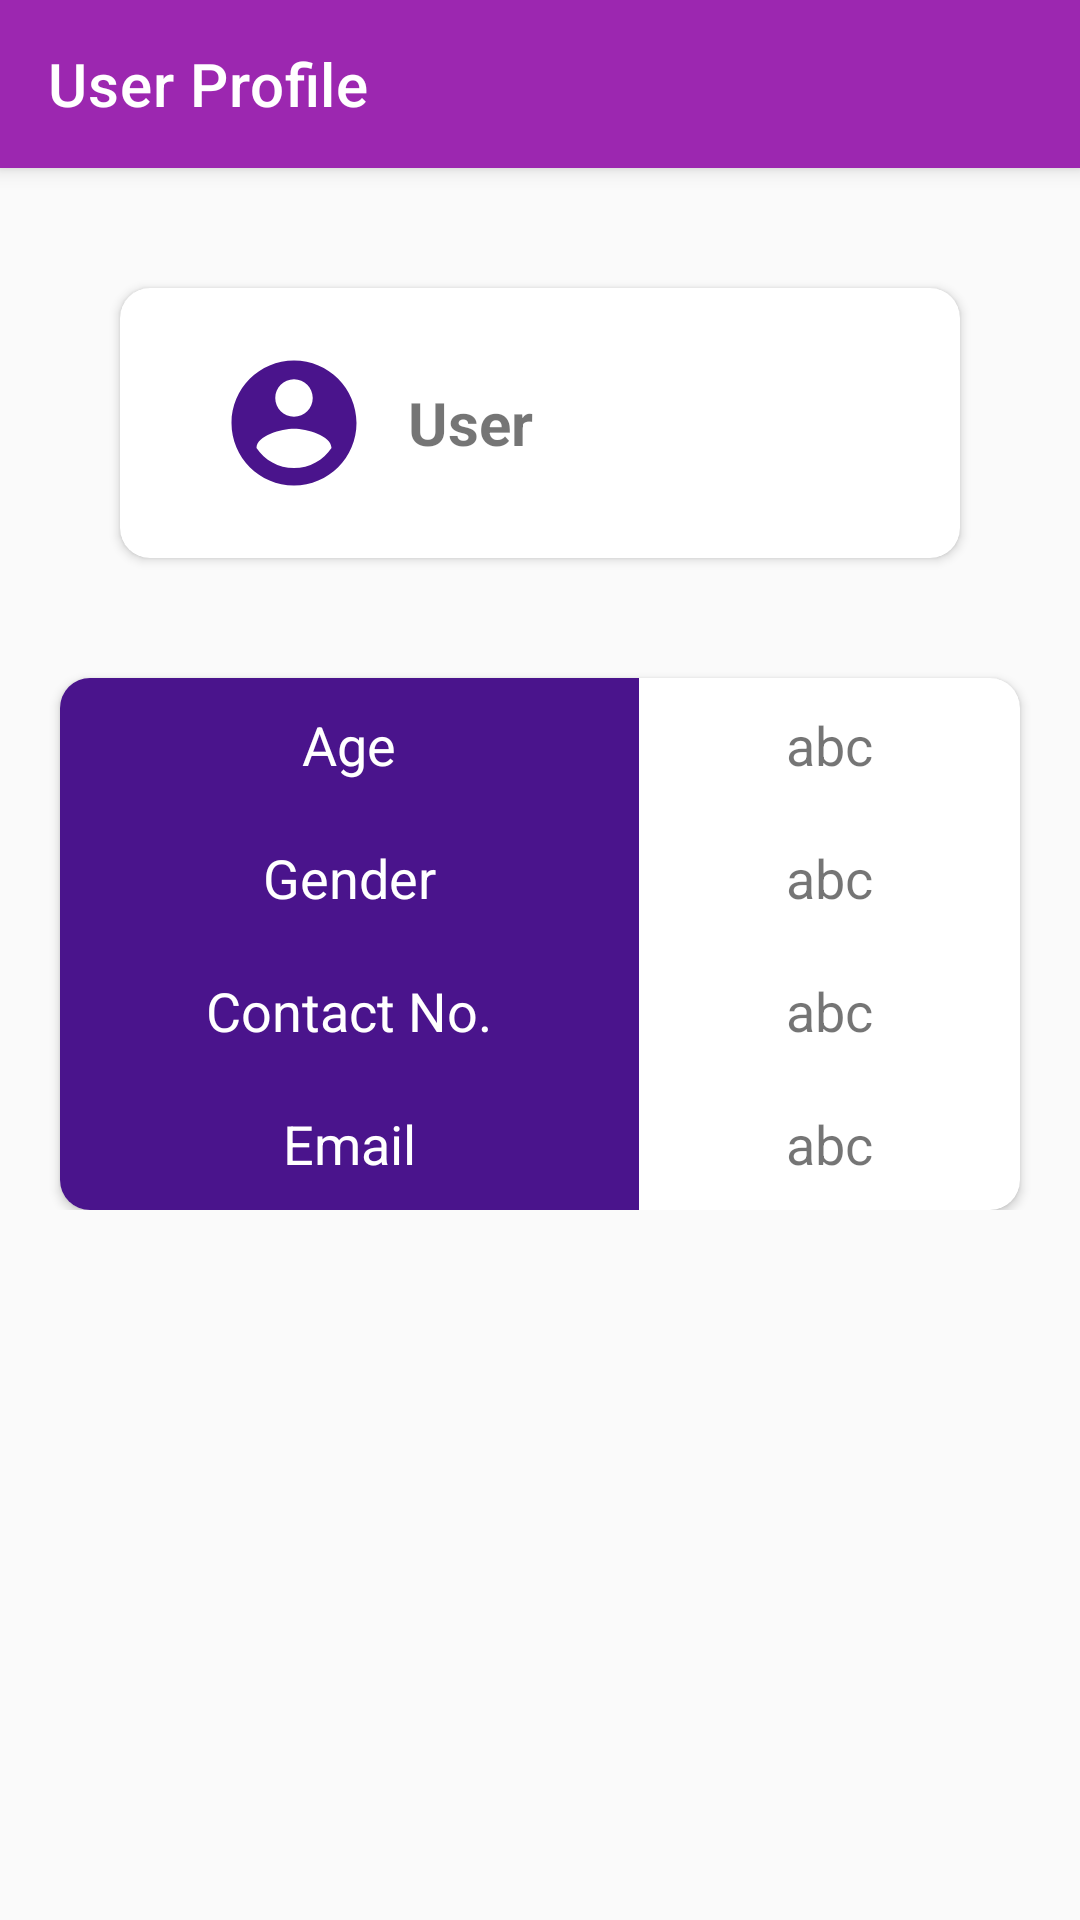

Icons on this 1080px x 1920px Android screen, each with its box as (x1, y1, x2, y2):
account: (231, 360, 357, 486)
